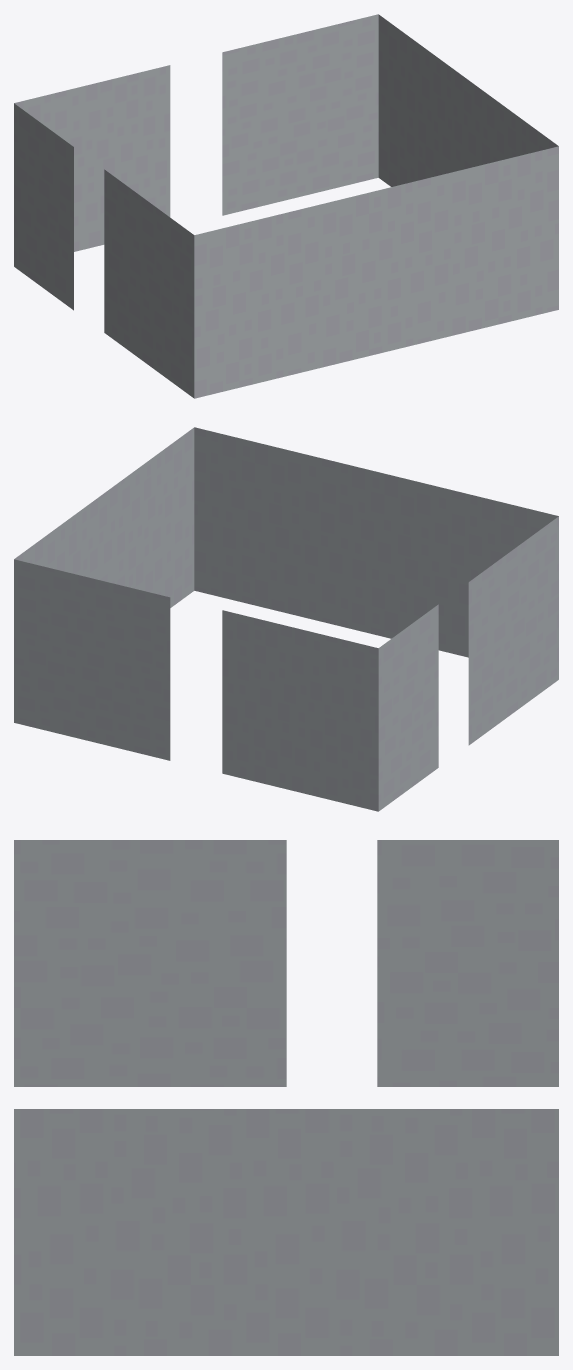
Rendered from bank_s486-511.glb.
3 renders of one model, top to bottom at view 1: azimuth 30°, elevation 25°; view 2: azimuth 150°, elevation 25°; view 3: azimuth 270°, elevation 25°, orthographic. The views are drawn at different scales.
Visible parts, largest first — view 1: bank_s486-511; view 2: bank_s486-511; view 3: bank_s486-511.
Part boxes in pixels (x1,y1,x2,y2): bank_s486-511: (14, 14, 558, 398); bank_s486-511: (14, 427, 558, 811); bank_s486-511: (14, 840, 558, 1355).
Size of what is drawn, in the model's own units: 7 by 3 by 6.
1 material, 1 textured.
